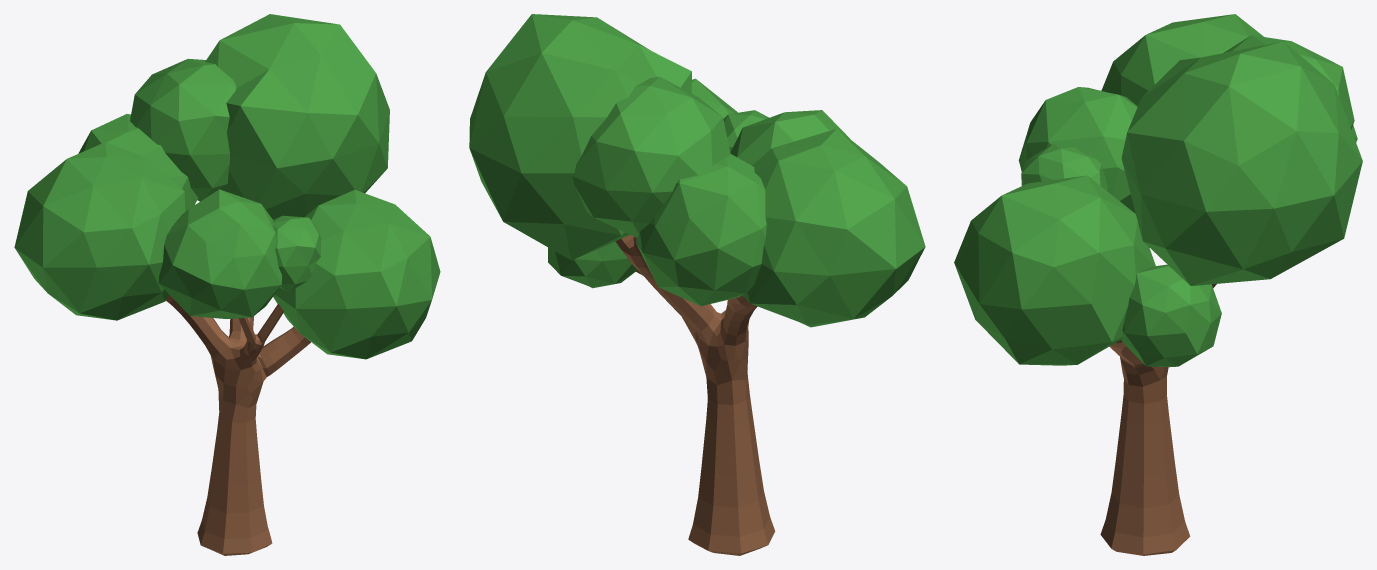
File: tree1.fbx
3 renders of one model, left to right at view 1: azimuth 30°, elevation 25°; view 2: azimuth 150°, elevation 25°; view 3: azimuth 270°, elevation 25°, orthographic. The views are drawn at different scales.
Parts seen in each view (by area): view 1: trunk.001; view 2: trunk.001; view 3: trunk.001.
Part boxes in pixels (left/top/right/bottom): trunk.001: left=14, top=14, right=440, bottom=555; trunk.001: left=469, top=14, right=925, bottom=555; trunk.001: left=954, top=14, right=1362, bottom=555.
Size of the model in its own units: 573 by 703 by 477.
